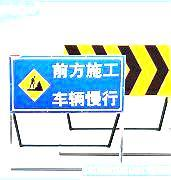sign: (10, 57, 122, 110)
